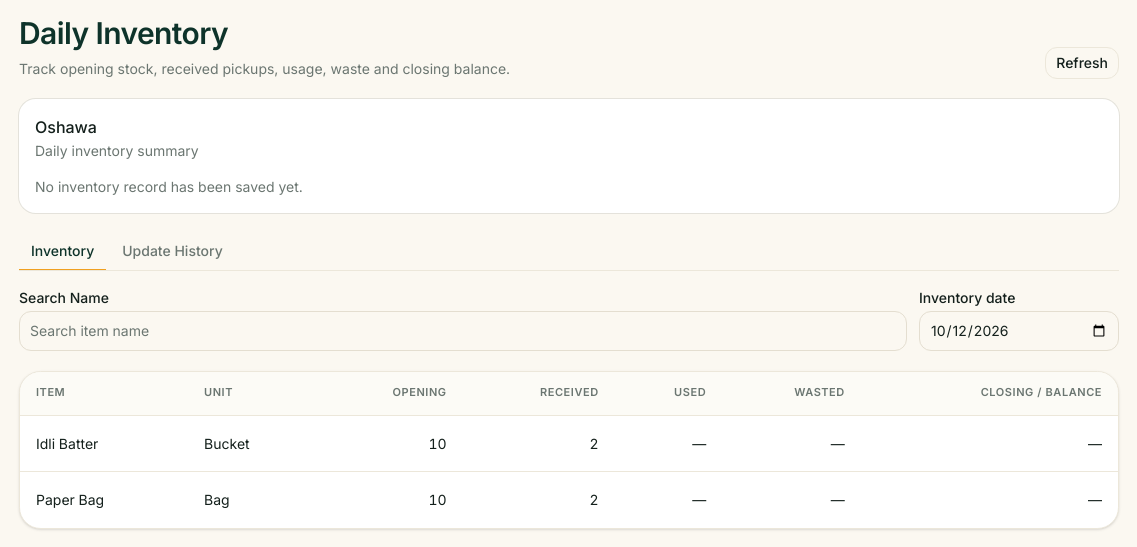
inventory separates units and searches only item names
The image size is (1137, 547).
Check: the text "Paper Bag" is shown, box top-left (20, 472), bottom-right (188, 528)
Check: the column heading "Unit" is shown, box top-left (188, 372), bottom-right (318, 416)
Type "paper" into the search field labelled "Search Name". click: (463, 330)
box: top-left (19, 310), bottom-right (907, 350)
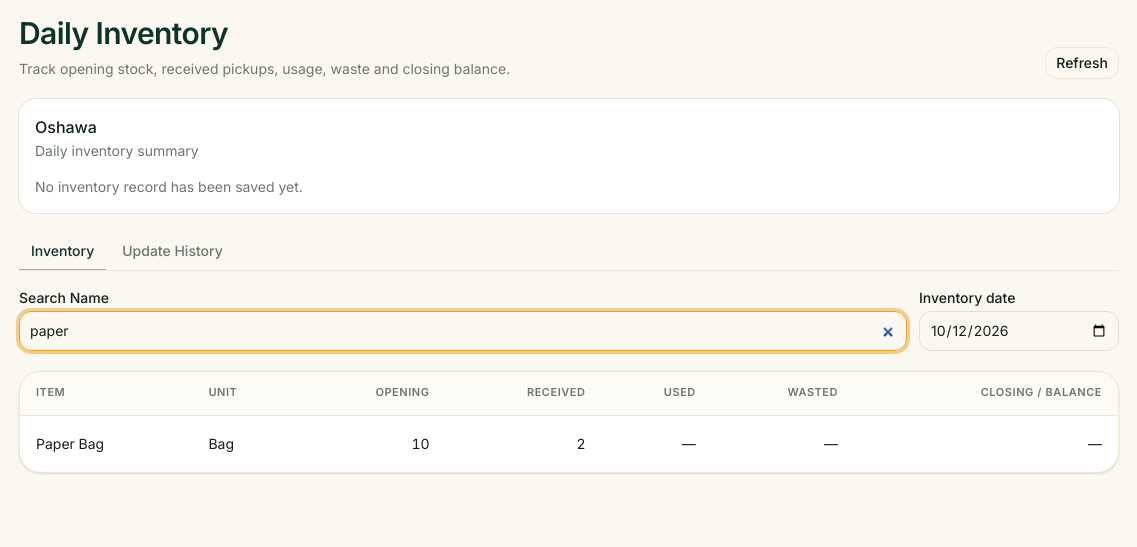
Check: the text "Paper Bag" is shown, box top-left (20, 416), bottom-right (192, 472)
Check: the text "Idli Batter" is gone
Replace the text in the search field labelled "Search Name" with "bucket". click: (463, 330)
box: top-left (19, 310), bottom-right (907, 350)
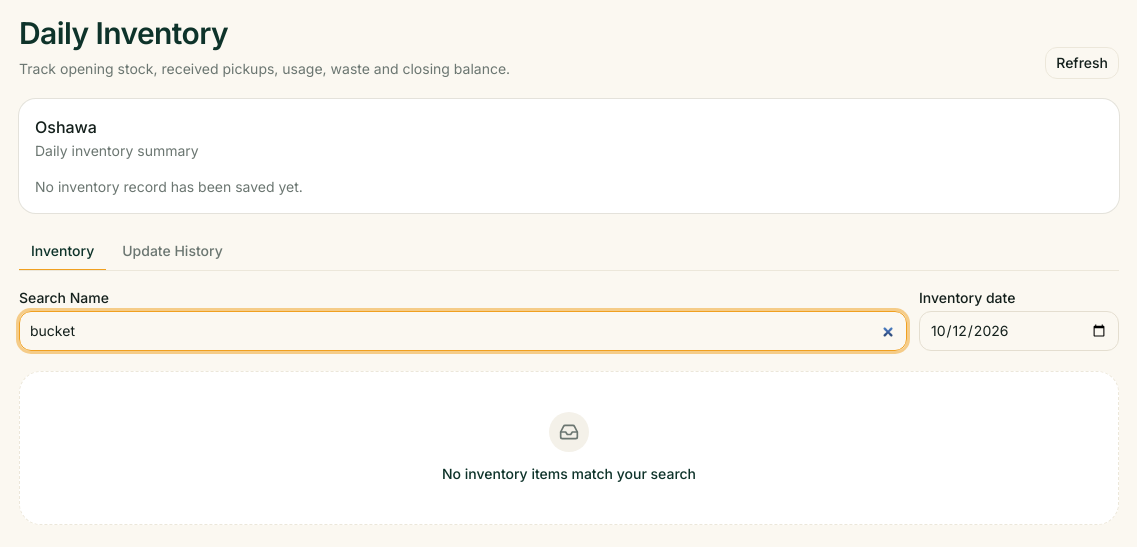
Check: the text "No inventory items match your search" is shown, box top-left (442, 464), bottom-right (696, 482)
